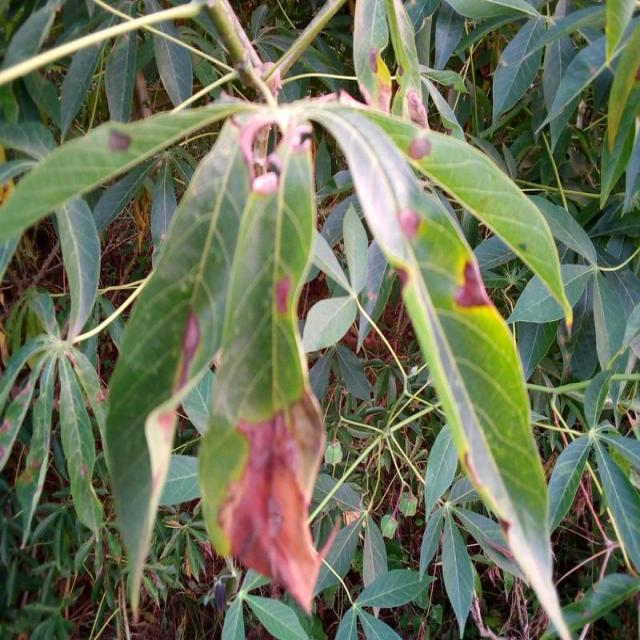cassava leaf: (306, 97, 572, 635)
